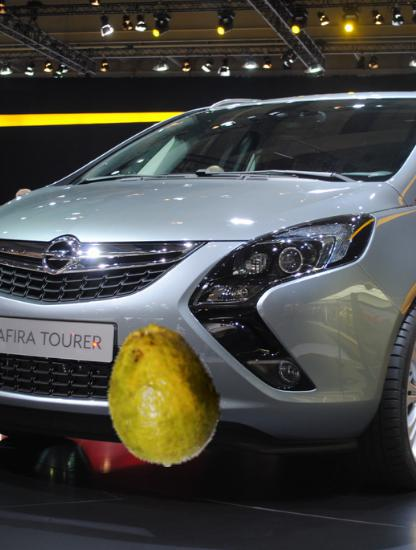Guava: (91, 322, 236, 467)
